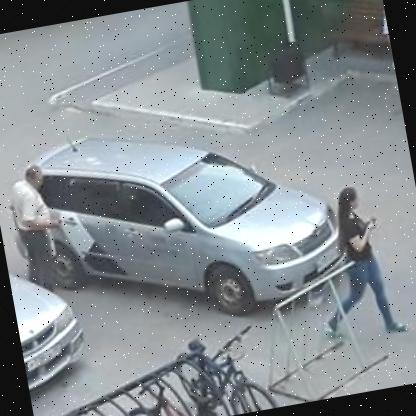car: (0, 90, 353, 347)
person: (297, 178, 408, 356), (0, 159, 75, 296)
